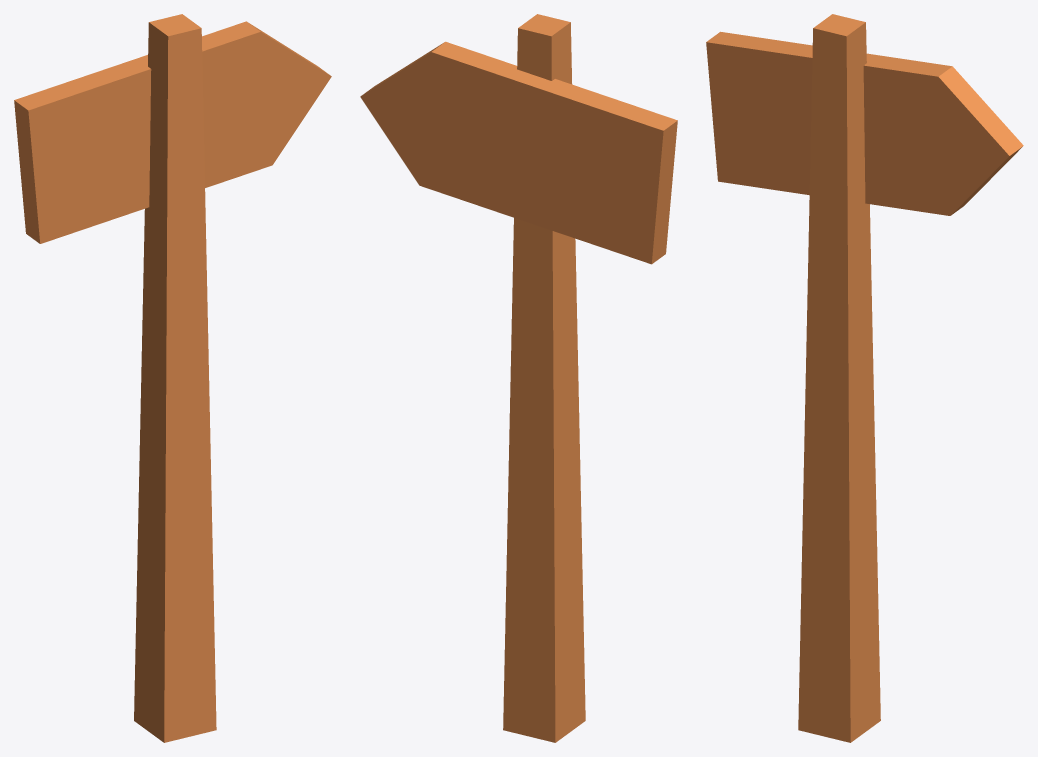
The model's file is signpostSingle.dae.
3 views of the same model, side by side, from view 1: azimuth 30°, elevation 25°; view 2: azimuth 150°, elevation 25°; view 3: azimuth 330°, elevation 25° (orthographic).
Parts seen in each view (by area): view 1: signpostSingle; view 2: signpostSingle; view 3: signpostSingle.
Part boxes in pixels (x1,y1,x2,y2): signpostSingle: [14, 14, 331, 742]; signpostSingle: [360, 14, 677, 742]; signpostSingle: [706, 14, 1023, 742].
Bounding box in the file's own units: 0.2086 × 0.4601 × 0.043.
